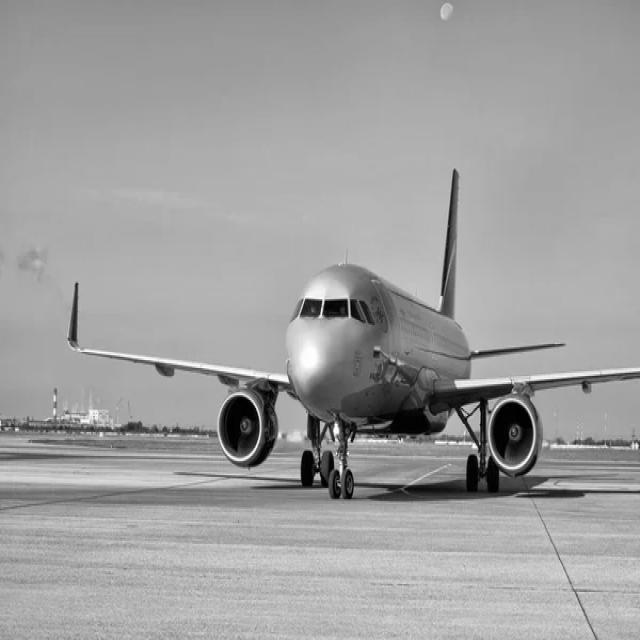Aircraft: (65, 161, 624, 510)
